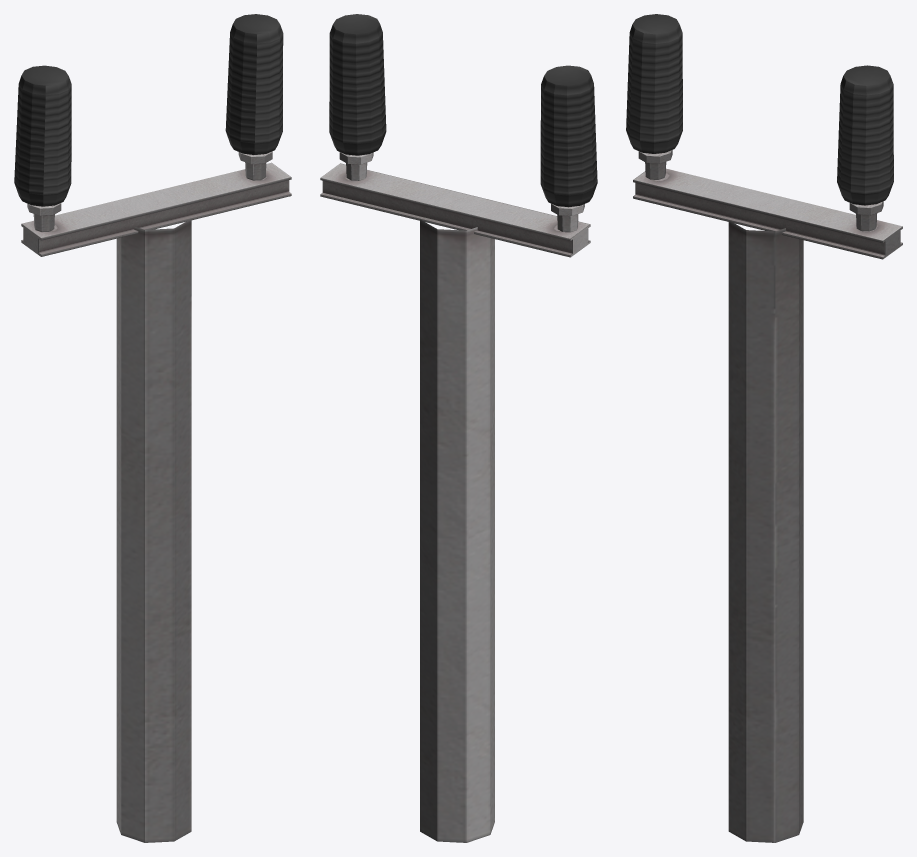
File: 两头柱子.glb
The picture shows the model from 3 angles, left to right: view 1: azimuth 30°, elevation 25°; view 2: azimuth 150°, elevation 25°; view 3: azimuth 330°, elevation 25°; orthographic projection.
Visible parts, largest first — view 1: substation_ht_1005_06; view 2: substation_ht_1005_06; view 3: substation_ht_1005_06.
Boxes of the visible parts, x1,y1,x2,y2 form: substation_ht_1005_06: (14,14,291,842); substation_ht_1005_06: (320,14,597,842); substation_ht_1005_06: (626,14,902,842).
Size of the model in its own units: 12.63 by 35.66 by 3.31.
Materials: 2 (2 with a texture image).
